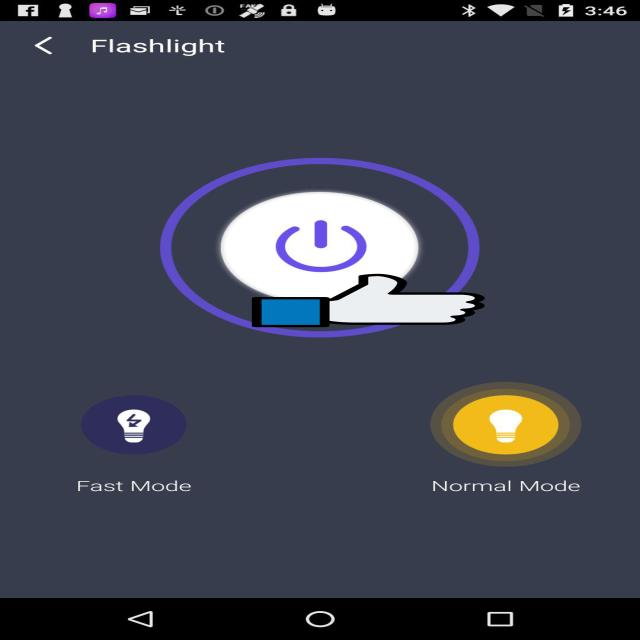privacy zuckering: (252, 273, 485, 328)
